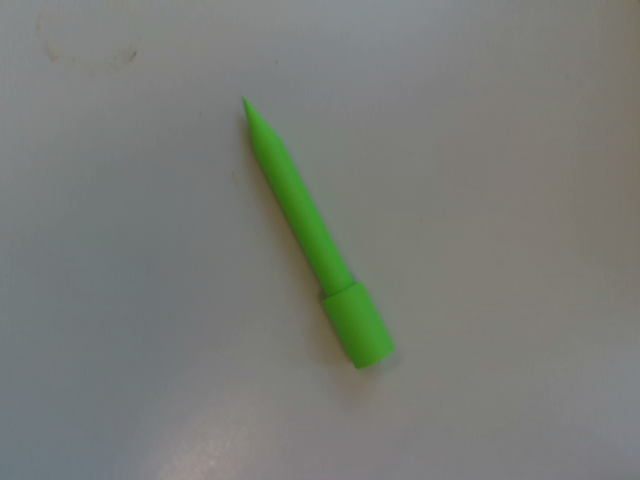Probe: (237, 88, 401, 378)
